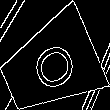O_SW: (22, 35, 78, 97)
